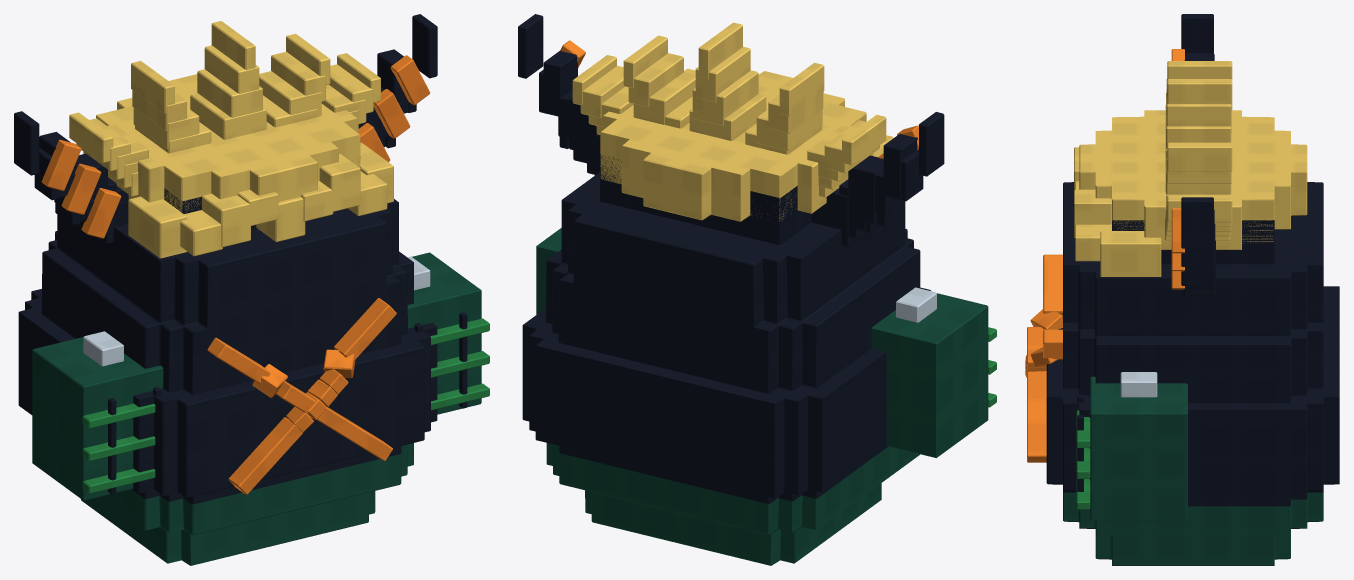
File: Bakugo_Egg.fbx
The picture shows the model from 3 angles, left to right: view 1: azimuth 30°, elevation 25°; view 2: azimuth 150°, elevation 25°; view 3: azimuth 270°, elevation 25°; orthographic projection. The views are drawn at different scales.
Parts seen in each view (by area): view 1: Bakugo_Egg; view 2: Bakugo_Egg; view 3: Bakugo_Egg.
Part boxes in pixels (left/top/right/bottom): Bakugo_Egg: left=14, top=14, right=489, bottom=565; Bakugo_Egg: left=518, top=14, right=996, bottom=565; Bakugo_Egg: left=1025, top=14, right=1339, bottom=565.
Bounding box in the file's own units: 291 × 320 × 207.
Materials: 6 (6 with a texture image).
